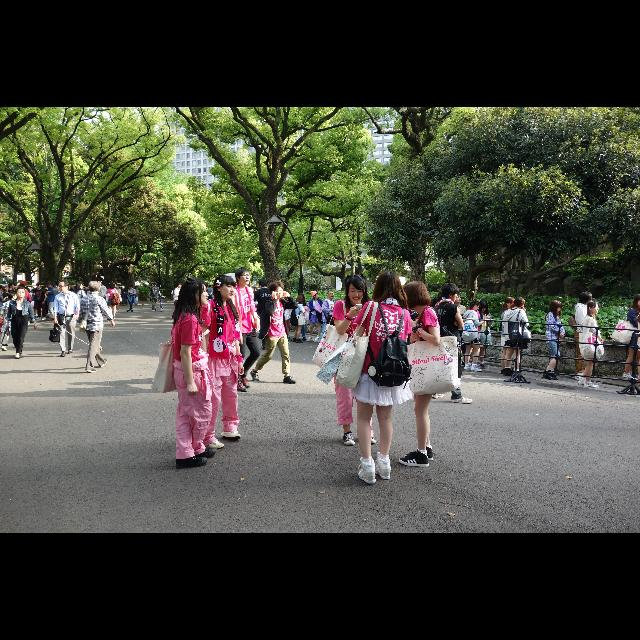head: (182, 278, 210, 306), (402, 281, 428, 311), (347, 276, 367, 304), (214, 276, 236, 300), (377, 272, 399, 296), (443, 284, 459, 302), (236, 267, 250, 285), (270, 283, 284, 299), (579, 291, 593, 305), (88, 281, 100, 295), (550, 301, 562, 313), (587, 302, 599, 314), (59, 281, 70, 293), (16, 287, 26, 297), (258, 279, 268, 289), (470, 302, 480, 312), (506, 298, 516, 308), (515, 298, 525, 308), (454, 292, 462, 304), (479, 301, 487, 313), (284, 291, 292, 299), (312, 292, 320, 300), (19, 284, 25, 292), (76, 283, 84, 289), (328, 291, 334, 299), (4, 286, 10, 292), (9, 283, 15, 289), (36, 282, 42, 288), (47, 282, 53, 288), (55, 280, 61, 286), (176, 282, 182, 288), (297, 296, 303, 302), (101, 282, 105, 286), (110, 284, 114, 288), (116, 284, 120, 288), (128, 285, 132, 289), (153, 282, 157, 286), (208, 284, 212, 288), (0, 285, 2, 291), (125, 290, 127, 294), (136, 286, 138, 290)
person: (313, 269, 417, 486), (150, 277, 217, 471), (394, 280, 461, 470), (312, 274, 381, 448), (198, 274, 246, 451), (429, 282, 473, 406), (249, 281, 299, 385), (222, 266, 262, 392), (76, 281, 115, 374), (0, 286, 38, 360), (500, 297, 532, 379), (567, 291, 595, 383), (49, 279, 81, 357), (577, 302, 605, 388), (250, 278, 282, 352), (542, 300, 568, 382), (498, 296, 522, 378), (461, 300, 484, 372), (473, 299, 495, 371), (449, 292, 467, 368), (319, 291, 341, 347), (308, 291, 324, 343), (290, 295, 306, 343), (52, 280, 68, 320), (72, 282, 88, 322), (18, 284, 32, 326), (32, 282, 46, 322), (44, 281, 58, 321), (106, 283, 120, 321), (282, 291, 292, 343), (171, 282, 183, 321), (148, 282, 162, 312), (2, 286, 12, 326), (0, 284, 8, 332), (7, 282, 16, 322), (98, 282, 108, 314), (126, 284, 136, 314), (114, 283, 122, 313), (132, 286, 140, 306), (206, 284, 214, 304), (122, 290, 132, 302)
